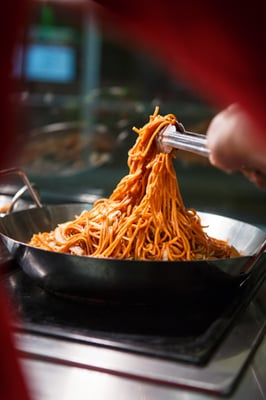sandwich: (52, 106, 239, 263)
